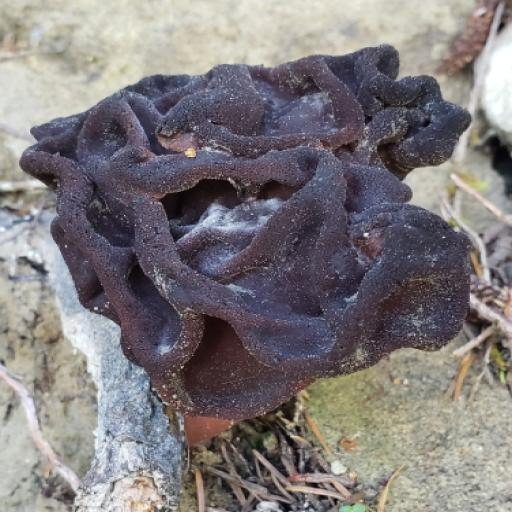False Morel: (12, 0, 512, 465)
